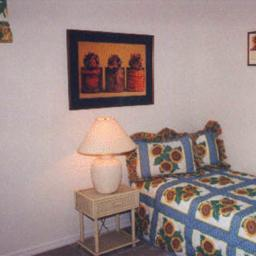Cama: (136, 125, 253, 254)
